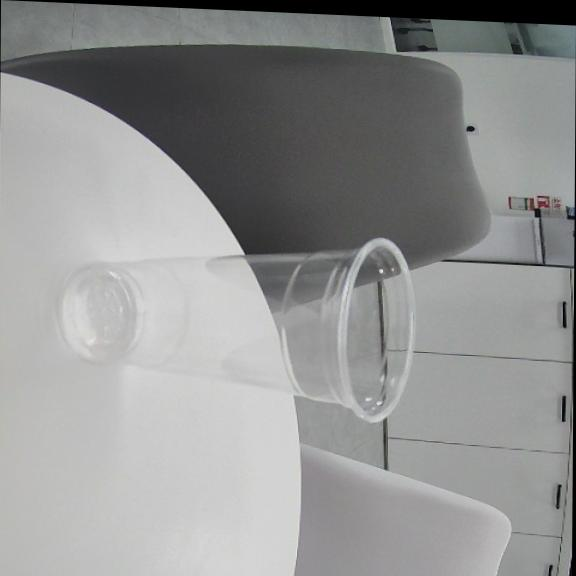Plastik: (61, 237, 413, 422)
